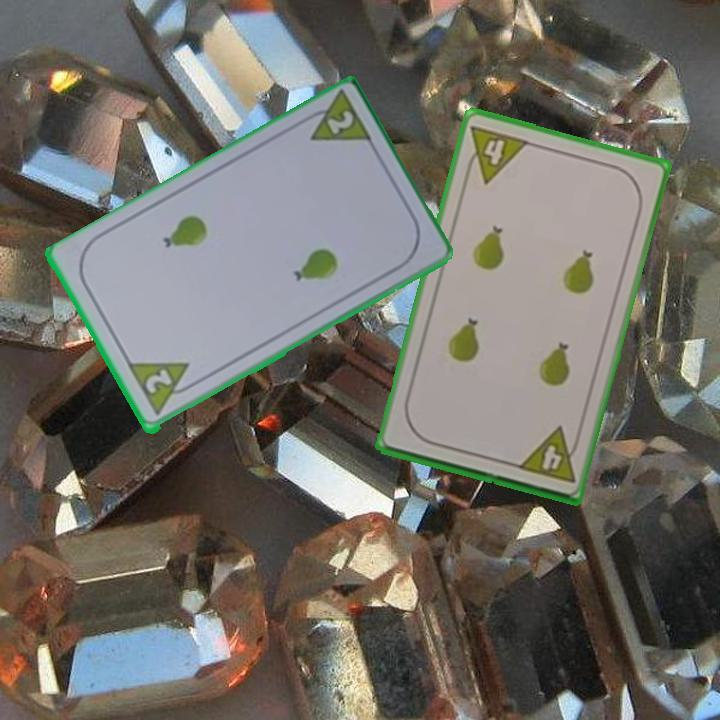2p: (141, 366, 175, 398), (323, 107, 357, 138)
4p: (460, 121, 532, 186), (513, 423, 583, 486)
